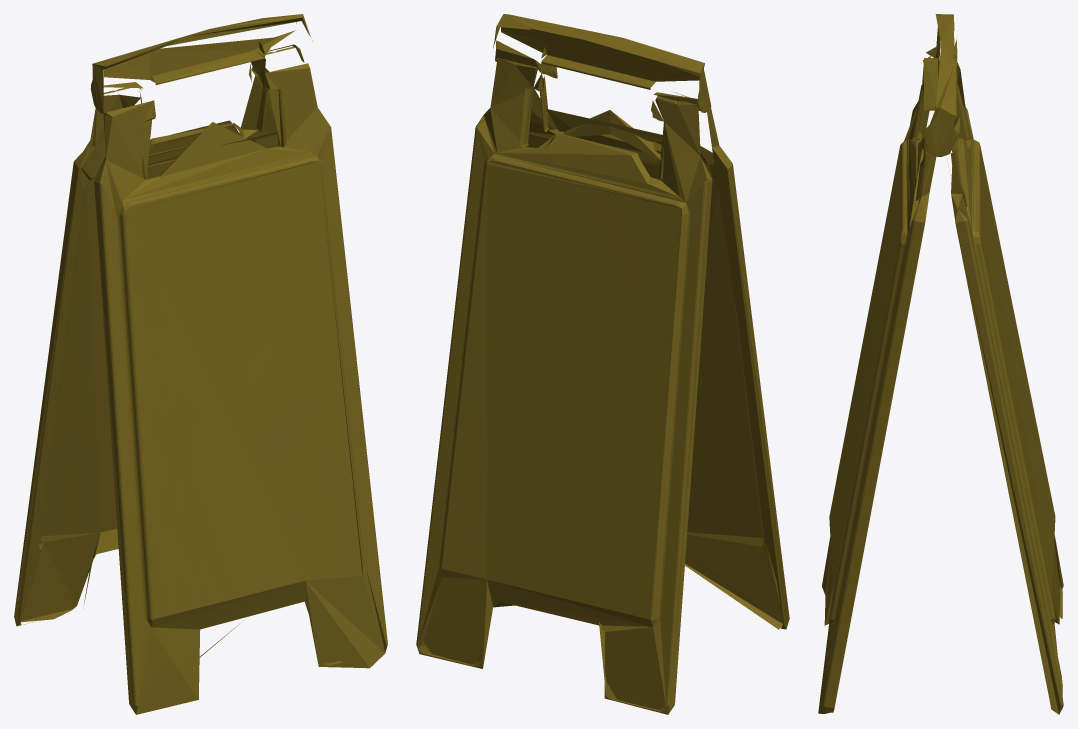
Rendered from sign_wetFloor_a01.glb.
The picture shows the model from 3 angles, left to right: view 1: azimuth 30°, elevation 25°; view 2: azimuth 150°, elevation 25°; view 3: azimuth 270°, elevation 25°; orthographic projection.
Visible parts, largest first — view 1: geometry_0; view 2: geometry_0; view 3: geometry_0.
Part boxes in pixels (<box>): geometry_0: <box>14,14,387,714</box>; geometry_0: <box>416,14,789,714</box>; geometry_0: <box>818,14,1063,714</box>.
Size of the model in its own units: 0.1813 by 0.42 by 0.1535.
1 material, 1 textured.
